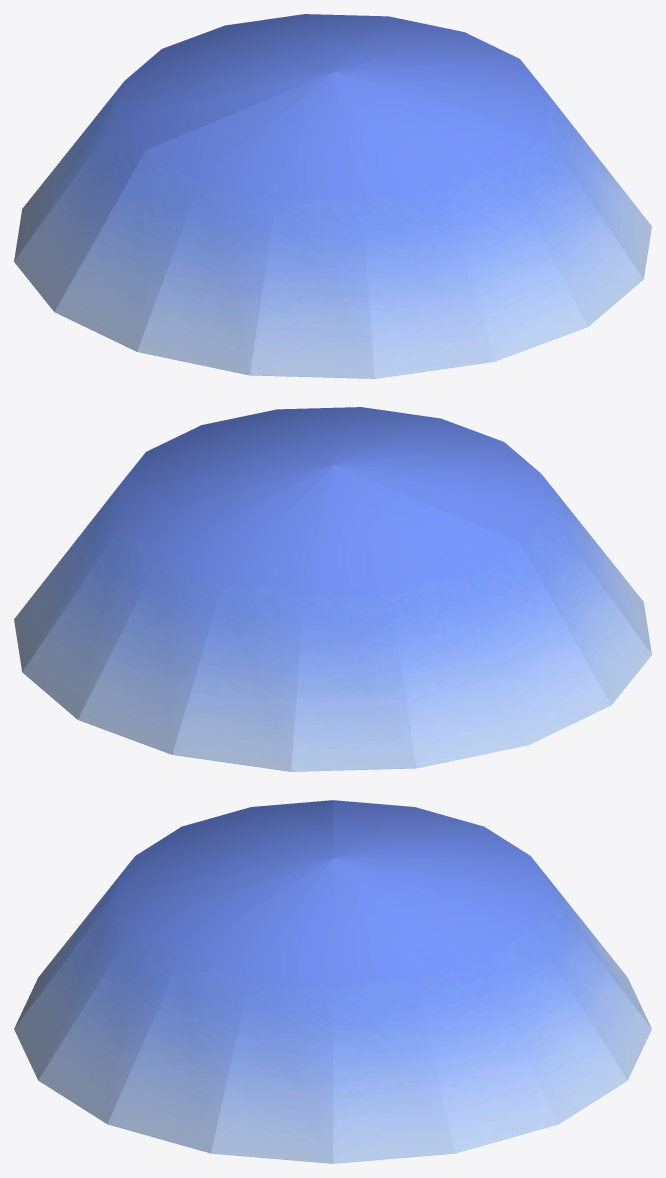
File: wii_sports_-_tennis_court_a.glb
3 renders of one model, top to bottom at view 1: azimuth 30°, elevation 25°; view 2: azimuth 150°, elevation 25°; view 3: azimuth 270°, elevation 25°, orthographic.
Visible parts, largest first — view 1: tns_Field_a.ao; view 2: tns_Field_a.ao; view 3: tns_Field_a.ao.
Part boxes in pixels (x1,y1,x2,y2): tns_Field_a.ao: [14, 14, 651, 378]; tns_Field_a.ao: [14, 407, 651, 771]; tns_Field_a.ao: [14, 800, 651, 1163].
Size of the model in its own units: 32.71 by 9.63 by 32.71.
Materials: 19 (19 with a texture image).
